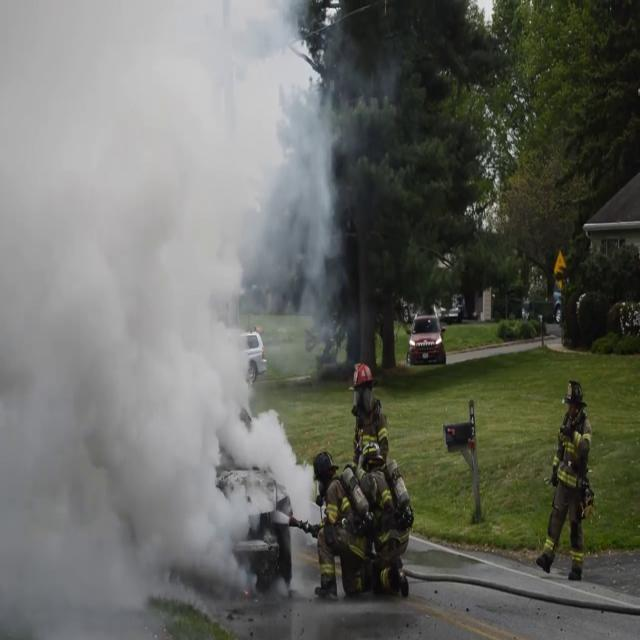Smoke: (0, 1, 341, 631)
